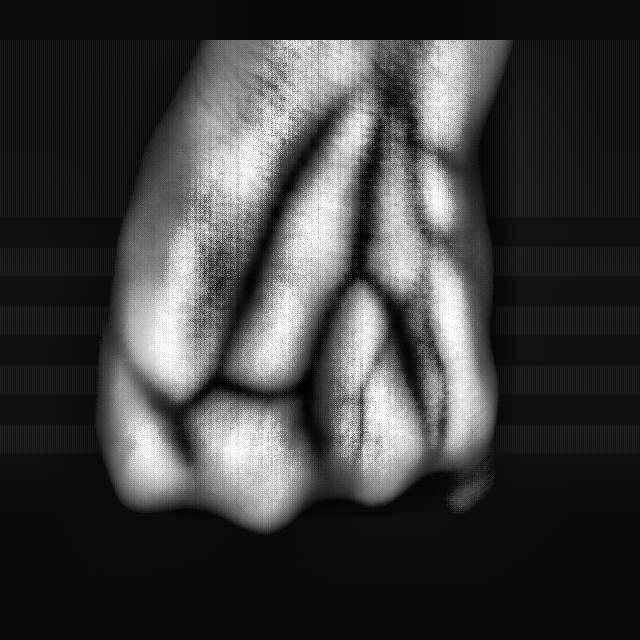Vein: (211, 151, 315, 358), (346, 89, 403, 255)
